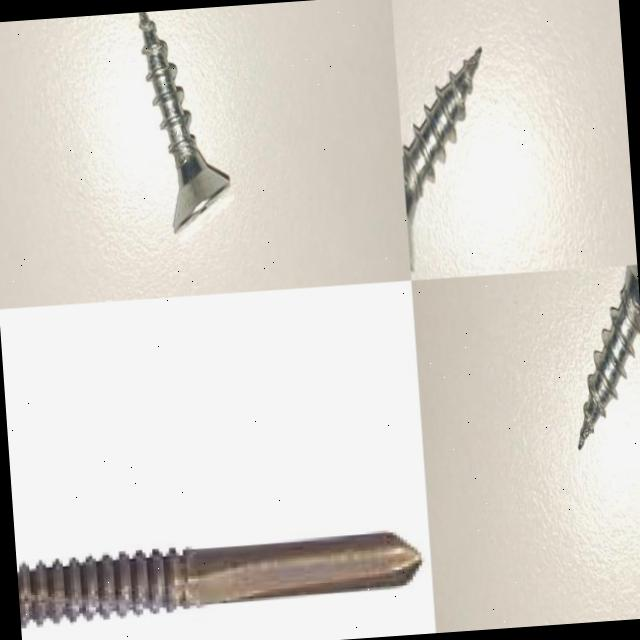Screw: (16, 527, 424, 626), (138, 11, 230, 234), (402, 48, 481, 272), (578, 264, 640, 450)
